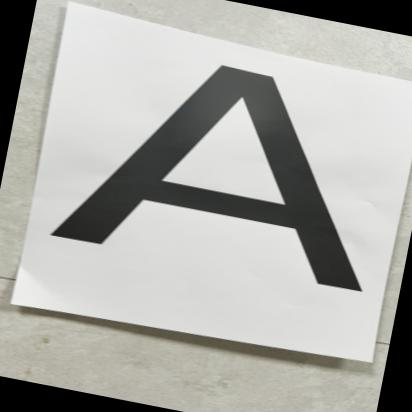seat: (32, 18, 412, 301)
